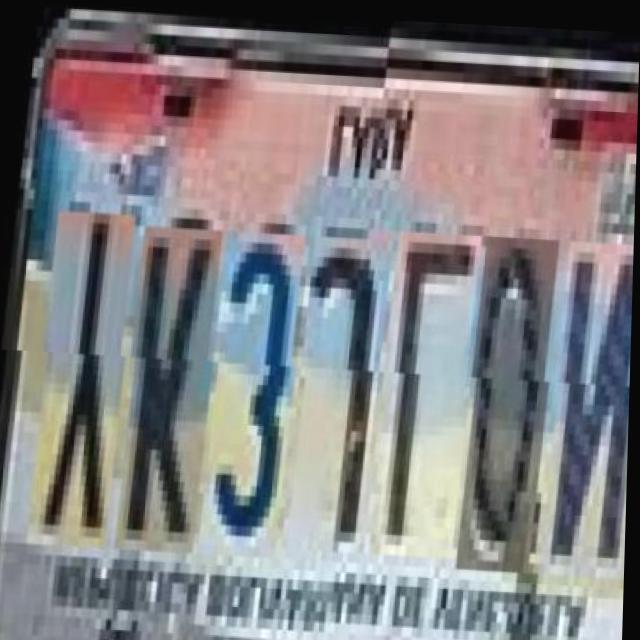3: (199, 217, 305, 546)
j: (286, 222, 392, 551)
k: (116, 213, 222, 542)
l: (369, 225, 480, 554)
n: (537, 233, 635, 572)
o: (456, 228, 557, 568)
y: (28, 198, 134, 538)
